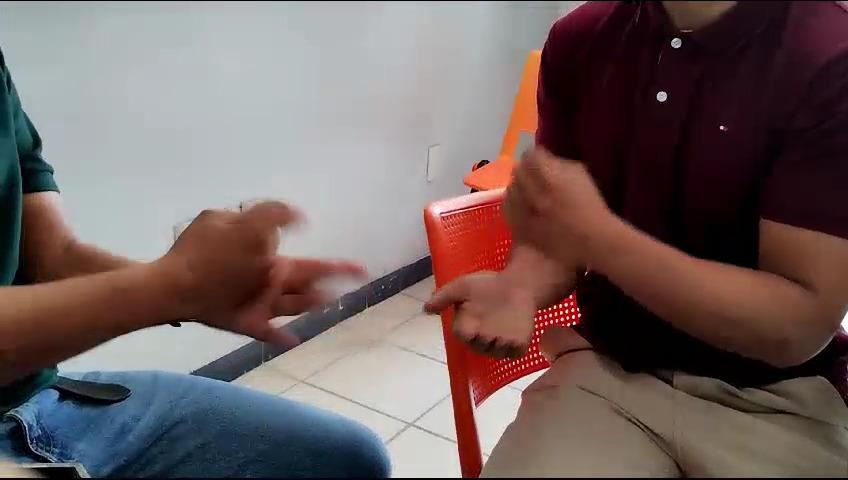Stone: (495, 140, 612, 268)
